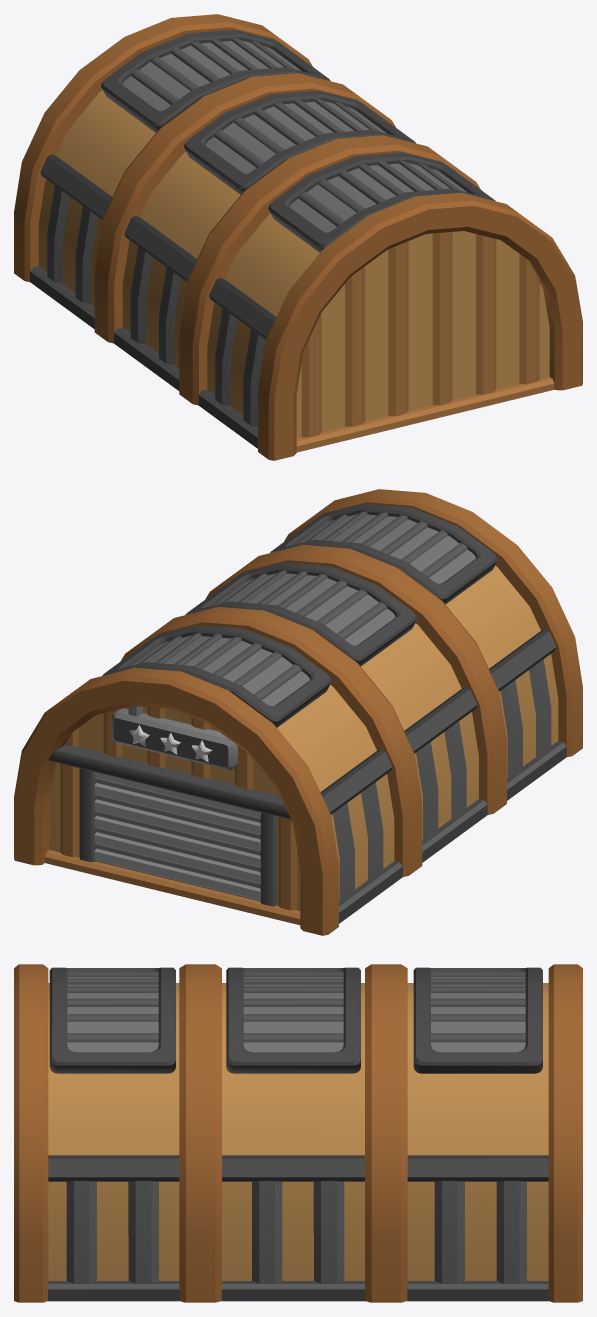
File: Hangar_1_B.fbx
3 renders of one model, top to bottom at view 1: azimuth 30°, elevation 25°; view 2: azimuth 150°, elevation 25°; view 3: azimuth 270°, elevation 25°, orthographic. The views are drawn at different scales.
Visible parts, largest first — view 1: Hangar_1_B; view 2: Hangar_1_B; view 3: Hangar_1_B.
Part boxes in pixels (bbox=[...]): Hangar_1_B: bbox=[14, 14, 582, 460]; Hangar_1_B: bbox=[14, 489, 582, 935]; Hangar_1_B: bbox=[14, 964, 582, 1302].
Bounding box in the file's own units: 1011 × 668 × 1447.
